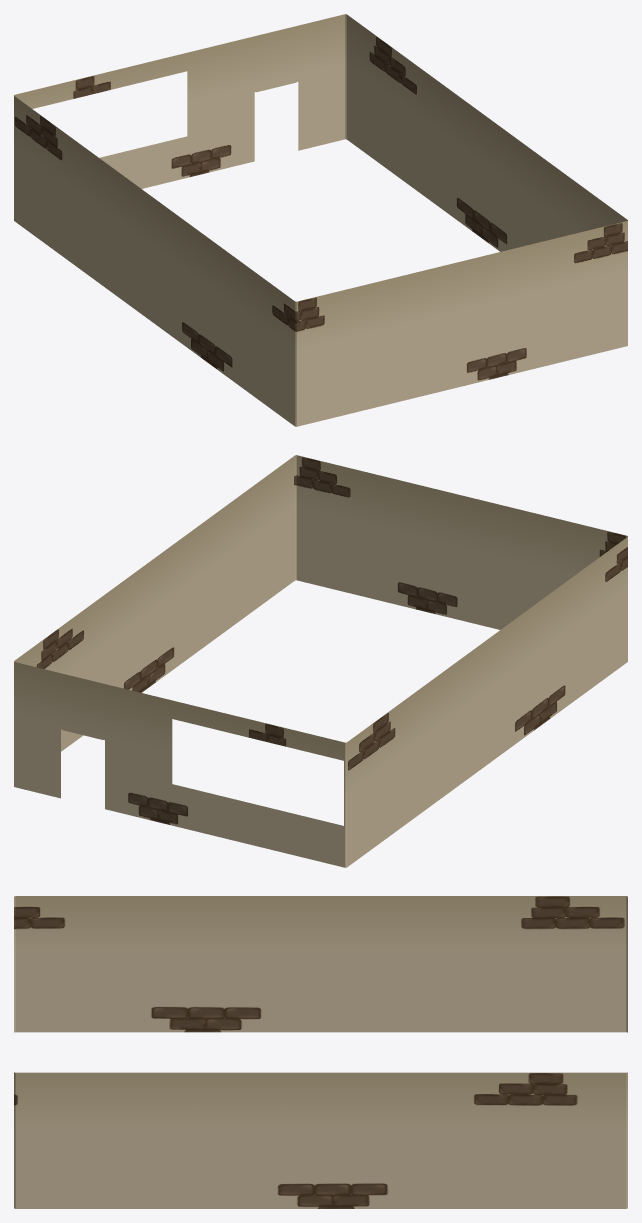
File: walls.fbx
3 renders of one model, top to bottom at view 1: azimuth 30°, elevation 25°; view 2: azimuth 150°, elevation 25°; view 3: azimuth 270°, elevation 25°, orthographic. The views are drawn at different scales.
Parts seen in each view (by area): view 1: wall; view 2: wall; view 3: wall.
Boxes of the visible parts, x1,y1,x2,y2 form: wall: (14, 14, 627, 426); wall: (14, 455, 627, 867); wall: (14, 896, 627, 1208).
Bounding box in the file's own units: 1246 × 448 × 1831.
Materials: 1 (1 with a texture image).
